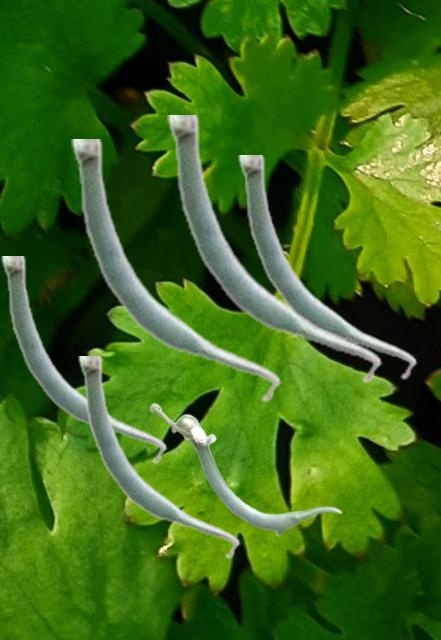french_bean: (167, 115, 381, 384), (71, 139, 280, 403), (238, 155, 416, 380), (1, 256, 166, 464), (78, 356, 239, 559), (149, 402, 341, 536)
